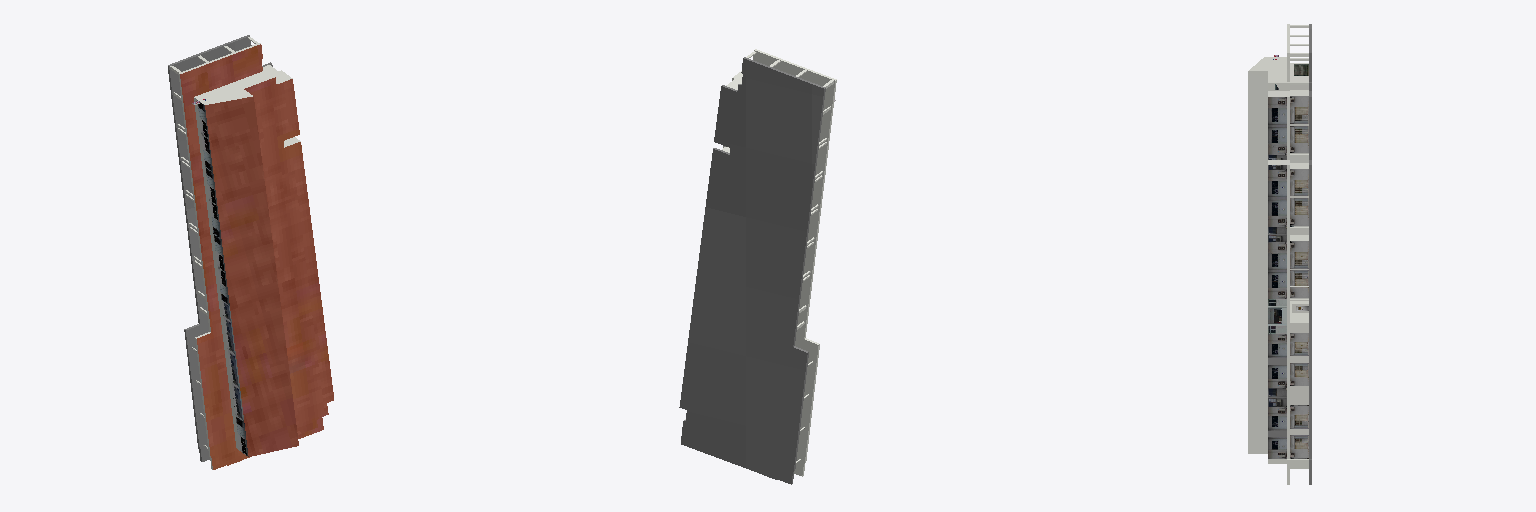
The picture shows the model from 3 angles: view 1: azimuth 30°, elevation 25°; view 2: azimuth 150°, elevation 25°; view 3: azimuth 270°, elevation 25°; orthographic projection.
Parts seen in each view (by area): view 1: polygon.865; view 2: polygon.865; view 3: polygon.865.
Part boxes in pixels (x1,y1,x2,y2): polygon.865: (168, 35, 333, 469); polygon.865: (679, 49, 836, 484); polygon.865: (1248, 24, 1311, 484).
Size of the model in its own units: 26.43 by 72.29 by 10.14.
1 materials, 1 textured.